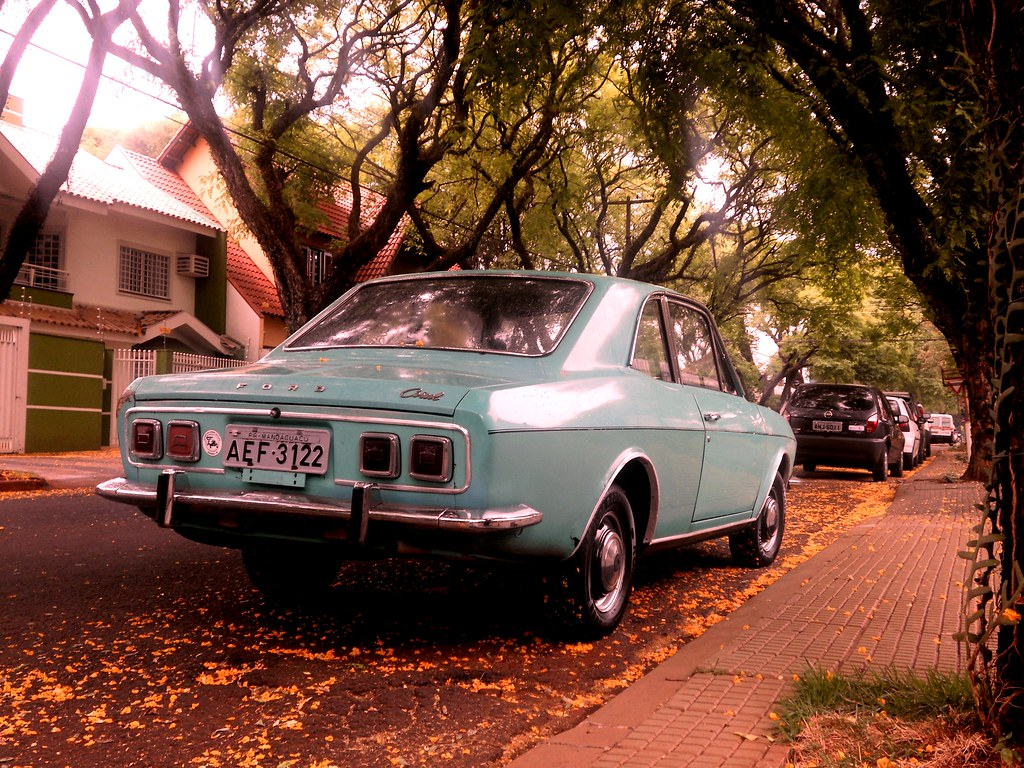car: (97, 145, 882, 641)
